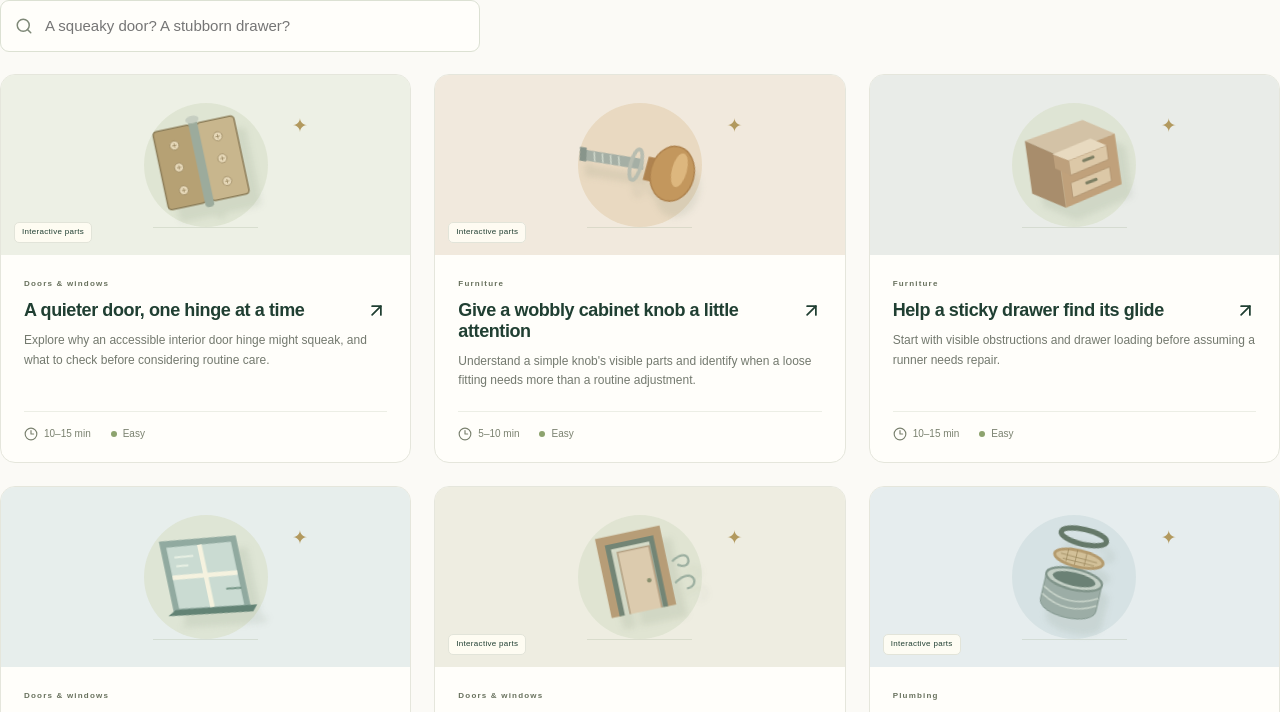
Test case: catalog browsing › finds the smart thermostat example and its supplied photo
In the search field named "Search repairs": (240, 26) [0,0,480,52], type "smart thermostat"
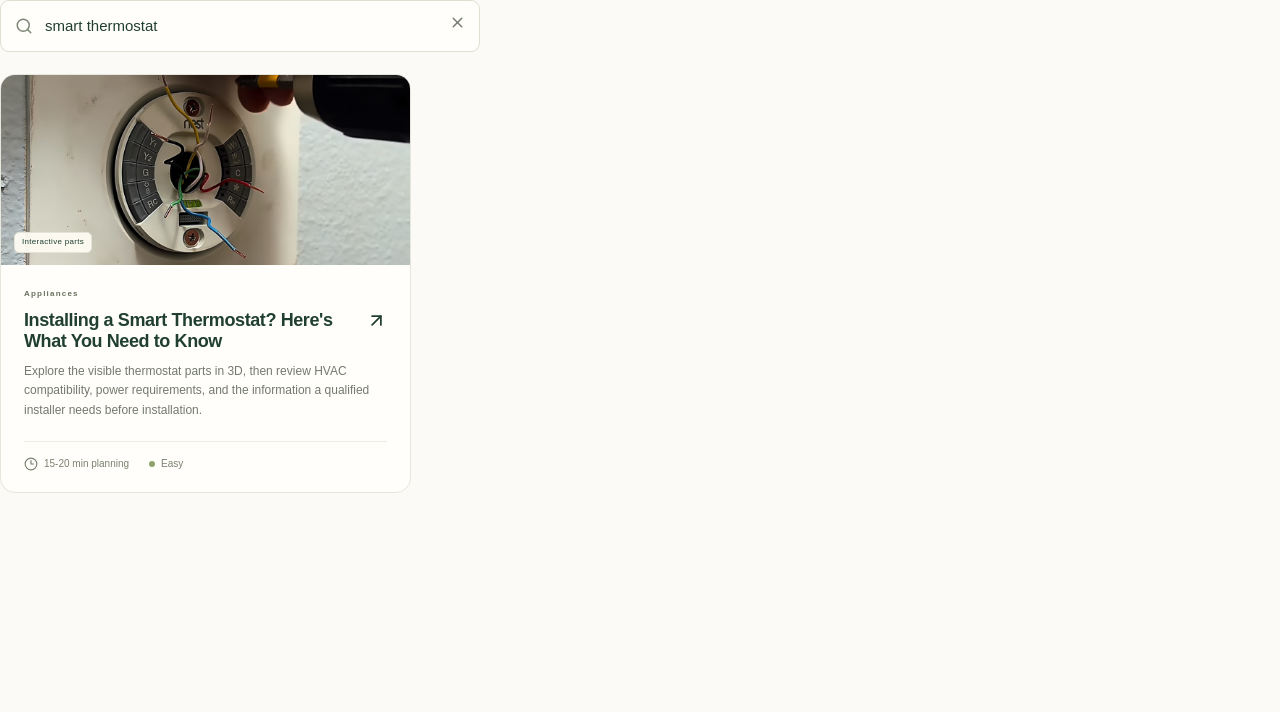
expect the number of headings is 1: met, box [24,310,387,352]
